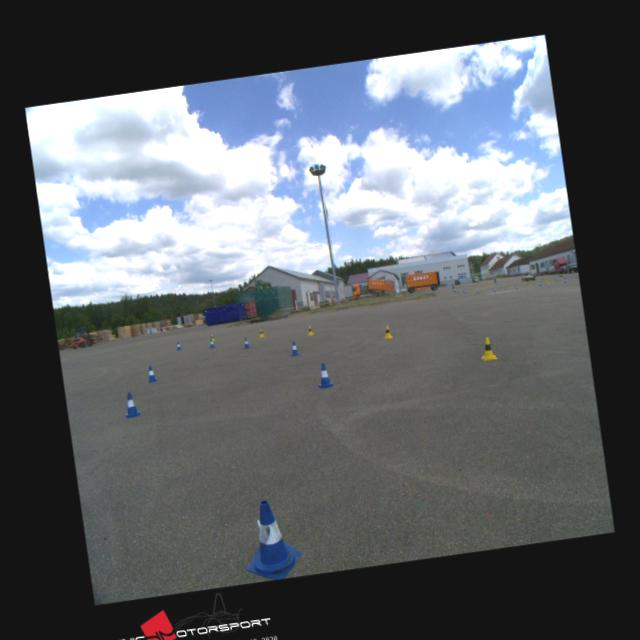blue_cone: (238, 497, 304, 583), (122, 392, 140, 418), (316, 363, 334, 388), (145, 365, 157, 382), (289, 341, 299, 355), (242, 337, 250, 348), (208, 338, 214, 348), (176, 342, 182, 351)
yellow_cone: (477, 335, 497, 361), (382, 324, 392, 338), (306, 325, 314, 335), (258, 328, 265, 337), (210, 334, 216, 342)
